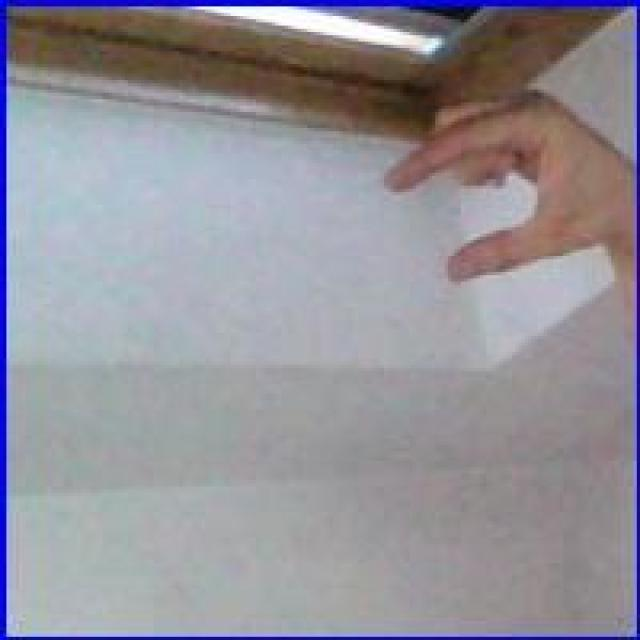Q: (378, 85, 634, 293)
